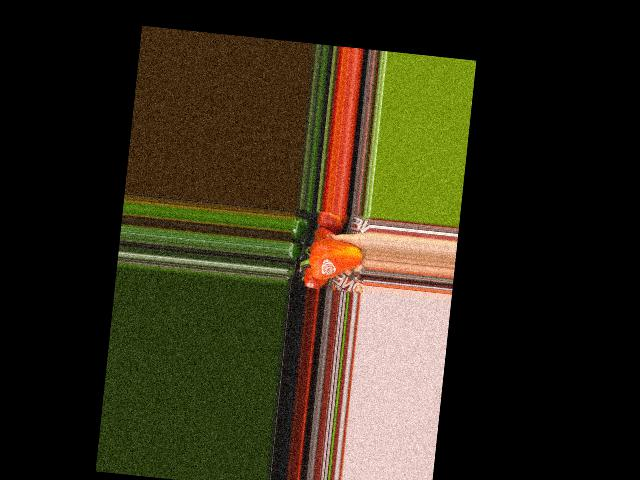bell_pepper: (297, 232, 363, 284)
